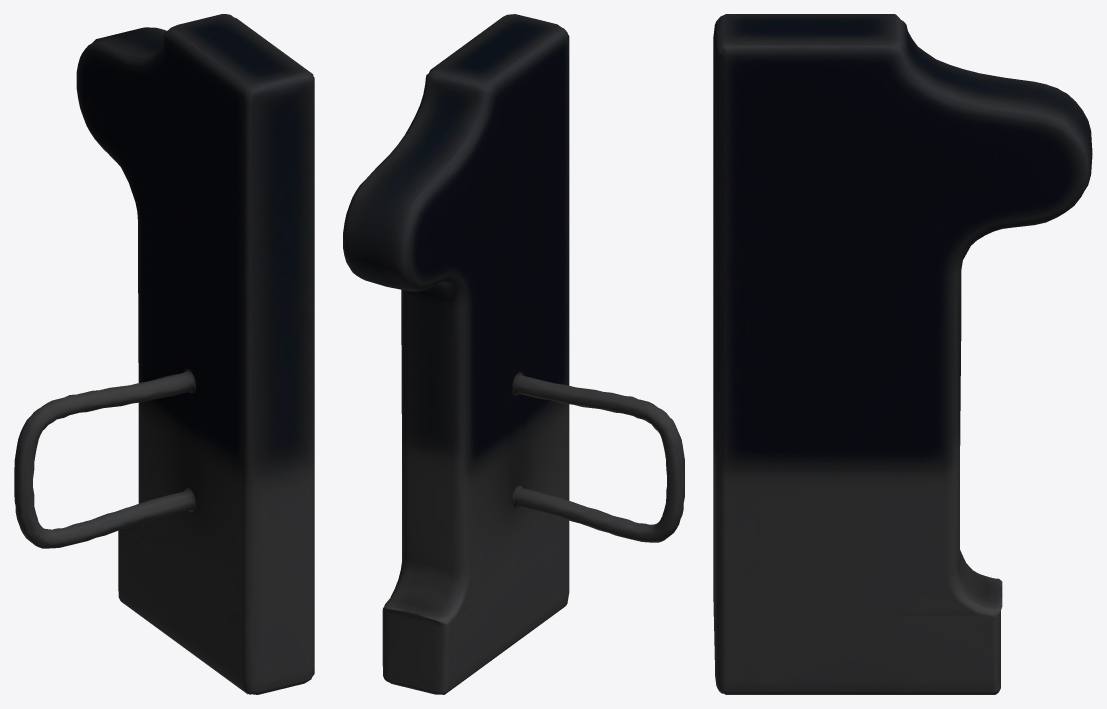
The picture shows the model from 3 angles, left to right: view 1: azimuth 30°, elevation 25°; view 2: azimuth 150°, elevation 25°; view 3: azimuth 270°, elevation 25°; orthographic projection. The views are drawn at different scales.
Parts seen in each view (by area): view 1: tripo_node_f82cf641-832a-49e0-9050-88d41c98792d; view 2: tripo_node_f82cf641-832a-49e0-9050-88d41c98792d; view 3: tripo_node_f82cf641-832a-49e0-9050-88d41c98792d.
Boxes of the visible parts, <box> form: tripo_node_f82cf641-832a-49e0-9050-88d41c98792d: <box>14,14,314,694</box>; tripo_node_f82cf641-832a-49e0-9050-88d41c98792d: <box>343,14,684,694</box>; tripo_node_f82cf641-832a-49e0-9050-88d41c98792d: <box>713,14,1092,694</box>.
Bounding box in the file's own units: 0.4199 × 0.998 × 0.5254.
1 material, 1 textured.
